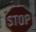Stop sign: (0, 0, 35, 31)
